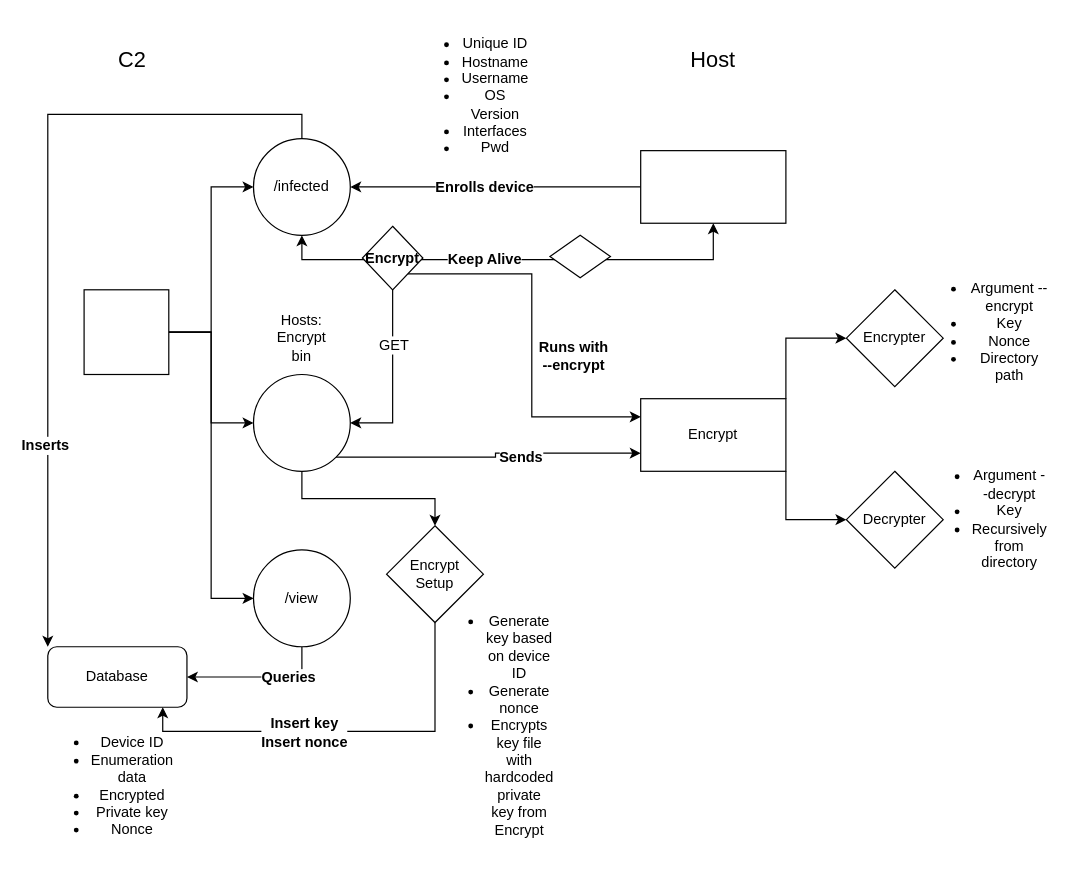
Some shapes in this 1072 by 874 pixel diagram are drawn without their labels. The centre of each missing label's shape, as x and y in pixels:
/file: the point at 301,422
Agent: the point at 712,186
Wait: the point at 579,256
Webserver: the point at 126,331
